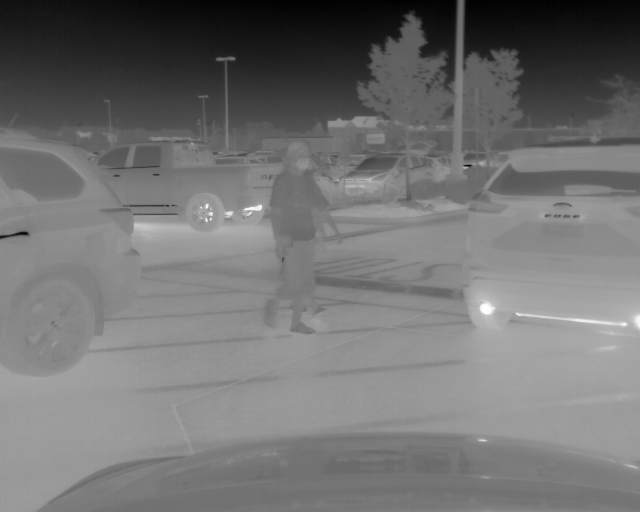car: (461, 137, 640, 342), (1, 126, 141, 376), (94, 141, 286, 230), (331, 150, 451, 203), (460, 149, 495, 171)
people: (261, 138, 341, 333)
